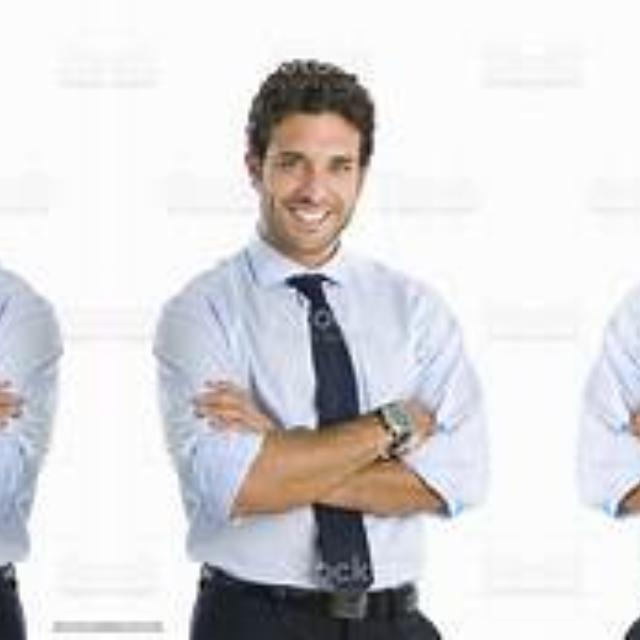person: (121, 18, 501, 640), (0, 18, 93, 639), (564, 18, 640, 639)
